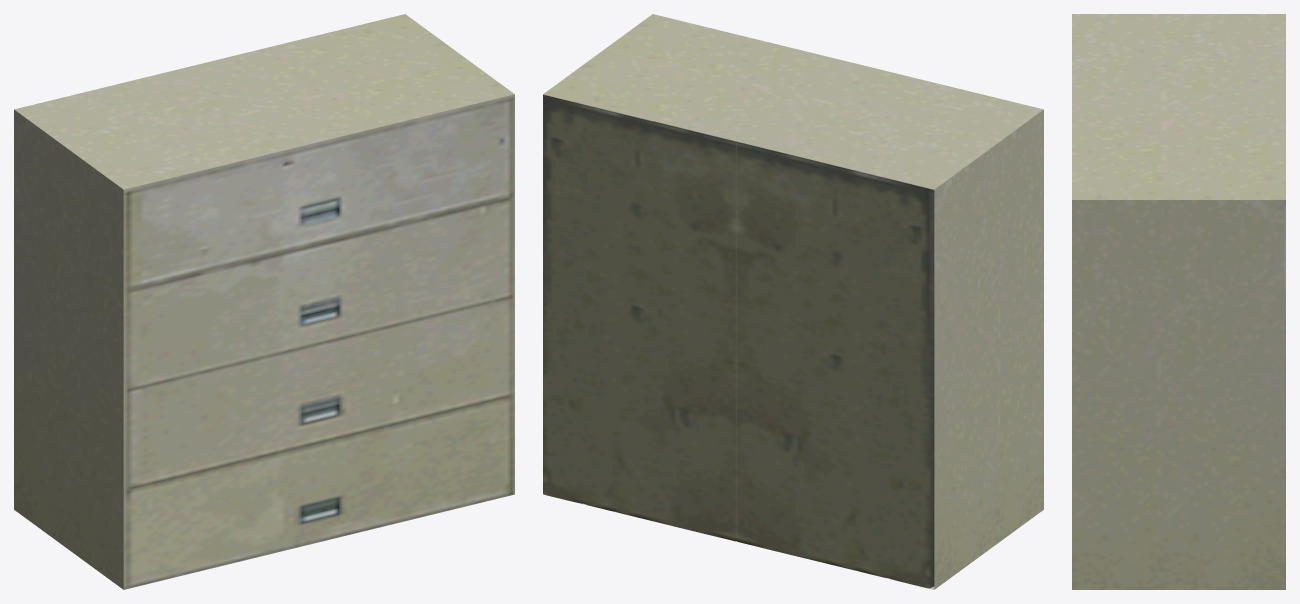
Rendered from file_cabinet_largest.fbx.
3 renders of one model, left to right at view 1: azimuth 30°, elevation 25°; view 2: azimuth 150°, elevation 25°; view 3: azimuth 270°, elevation 25°, orthographic. The views are drawn at different scales.
Visible parts, largest first — view 1: file_cabinet_largest; view 2: file_cabinet_largest; view 3: file_cabinet_largest.
Boxes of the visible parts, box(x1,y1,x2,y2) form: file_cabinet_largest: box(14, 14, 514, 589); file_cabinet_largest: box(543, 14, 1043, 589); file_cabinet_largest: box(1072, 14, 1285, 589).
Bounding box in the file's own units: 144 × 141 × 69.94.
Materials: 1 (1 with a texture image).
